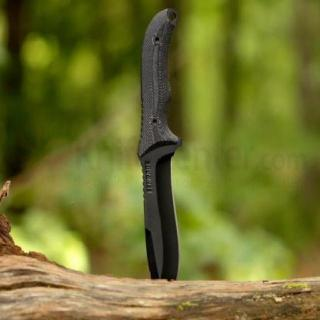knife: (136, 3, 186, 283)
